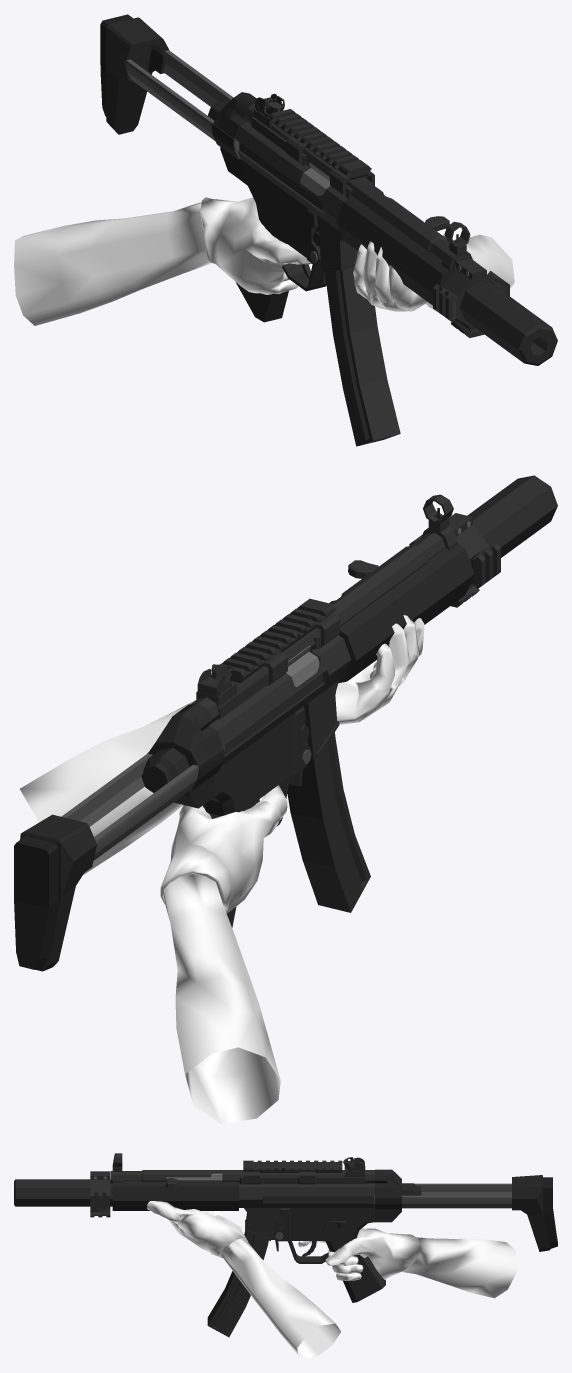
File: gun12.glb
3 renders of one model, top to bottom at view 1: azimuth 30°, elevation 25°; view 2: azimuth 150°, elevation 25°; view 3: azimuth 270°, elevation 25°, orthographic. The views are drawn at different scales.
Visible parts, largest first — view 1: SMDImport.001, body, Handguard_SD, Magazine, SMDImport.002, Butt_Pad, SMDImport.000, Piccatiny_Rail, Pistol_Grip, Arm_Right, Stock_Collapsable, Arm_Left (+5 smaller); view 2: SMDImport.001, body, Handguard_SD, Butt_Pad, Magazine, SMDImport.002, SMDImport.097, SMDImport.000, Stock_Collapsable, Piccatiny_Rail, Arm_Right, Arm_Left (+5 smaller); view 3: body, Handguard_SD, SMDImport.097, SMDImport.001, SMDImport.002, SMDImport.000, Butt_Pad, Magazine, Pistol_Grip, Arm_Left, Stock_Collapsable, Piccatiny_Rail (+4 smaller).
Part boxes in pixels (box(x1,y1,x2,y2)): SMDImport.001: box(14, 202, 211, 325); body: box(235, 103, 469, 270); Handguard_SD: box(336, 196, 557, 365); Magazine: box(325, 267, 400, 446); SMDImport.002: box(200, 197, 311, 294); Butt_Pad: box(100, 14, 169, 134); SMDImport.000: box(353, 235, 446, 311); Piccatiny_Rail: box(268, 109, 371, 180); Pistol_Grip: box(235, 228, 326, 322); Arm_Right: box(125, 59, 240, 159); Stock_Collapsable: box(211, 92, 256, 180); Arm_Left: box(163, 50, 233, 106); SMDImport.001: box(163, 874, 280, 1124); body: box(191, 532, 445, 816); Handguard_SD: box(338, 475, 557, 683); Butt_Pad: box(14, 814, 96, 971); Magazine: box(287, 732, 370, 912); SMDImport.002: box(160, 785, 287, 913); SMDImport.097: box(20, 700, 195, 874); SMDImport.000: box(335, 615, 424, 724); Stock_Collapsable: box(147, 703, 224, 808); Piccatiny_Rail: box(214, 598, 336, 684); Arm_Right: box(93, 746, 224, 860); Arm_Left: box(61, 753, 152, 826); body: box(110, 1170, 374, 1241); Handguard_SD: box(14, 1179, 238, 1210); SMDImport.097: box(220, 1239, 340, 1358); SMDImport.001: box(401, 1237, 519, 1298); SMDImport.002: box(298, 1228, 421, 1280); SMDImport.000: box(147, 1201, 248, 1257); Butt_Pad: box(512, 1175, 557, 1251); Magazine: box(207, 1232, 268, 1337); Pistol_Grip: box(288, 1237, 385, 1302); Arm_Left: box(374, 1195, 511, 1208); Stock_Collapsable: box(375, 1169, 401, 1222); Piccatiny_Rail: box(243, 1160, 342, 1173).
Size of the model in its own units: 0.08 by 0.0608 by 0.1663.
Materials: 6 (4 with a texture image).
